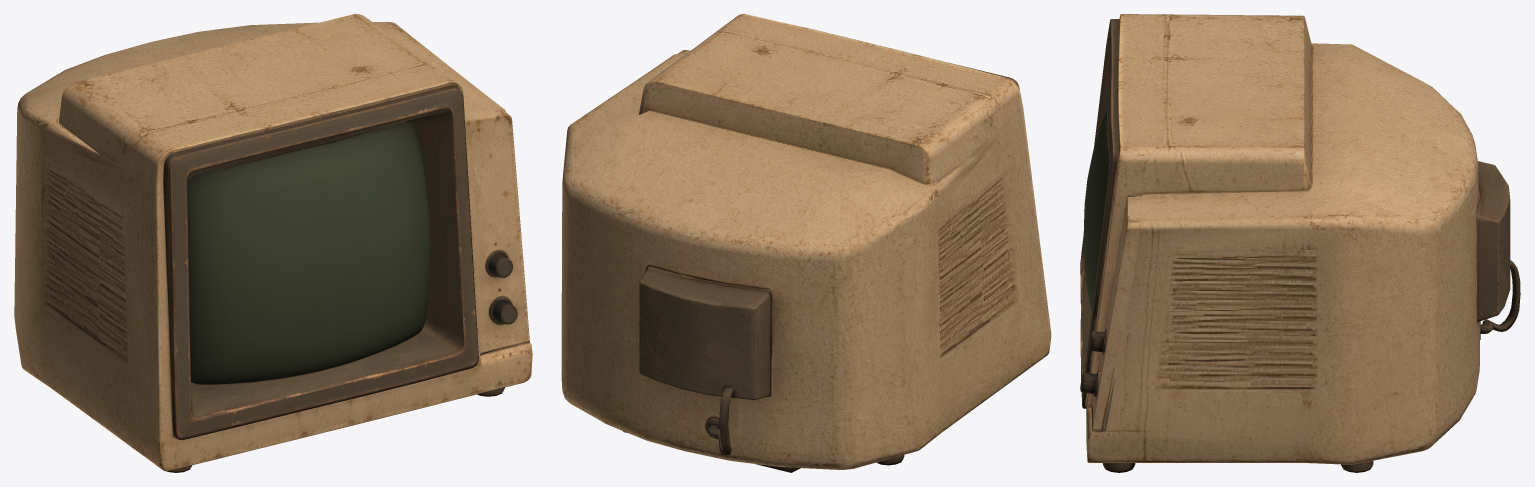
Rendered from Computer.fbx.
3 renders of one model, left to right at view 1: azimuth 30°, elevation 25°; view 2: azimuth 150°, elevation 25°; view 3: azimuth 270°, elevation 25°, orthographic. The views are drawn at different scales.
Parts seen in each view (by area): view 1: fd0202d0_cf8e_4d47_b353_3007ce8ded5d; view 2: fd0202d0_cf8e_4d47_b353_3007ce8ded5d; view 3: fd0202d0_cf8e_4d47_b353_3007ce8ded5d.
Boxes of the visible parts, x1=… form: fd0202d0_cf8e_4d47_b353_3007ce8ded5d: x1=14, y1=14, x2=532, y2=472; fd0202d0_cf8e_4d47_b353_3007ce8ded5d: x1=561, y1=14, x2=1051, y2=472; fd0202d0_cf8e_4d47_b353_3007ce8ded5d: x1=1080, y1=14, x2=1520, y2=472.
Bounding box in the file's own units: 0.9517 × 0.772 × 0.9995.
Materials: 1 (1 with a texture image).
